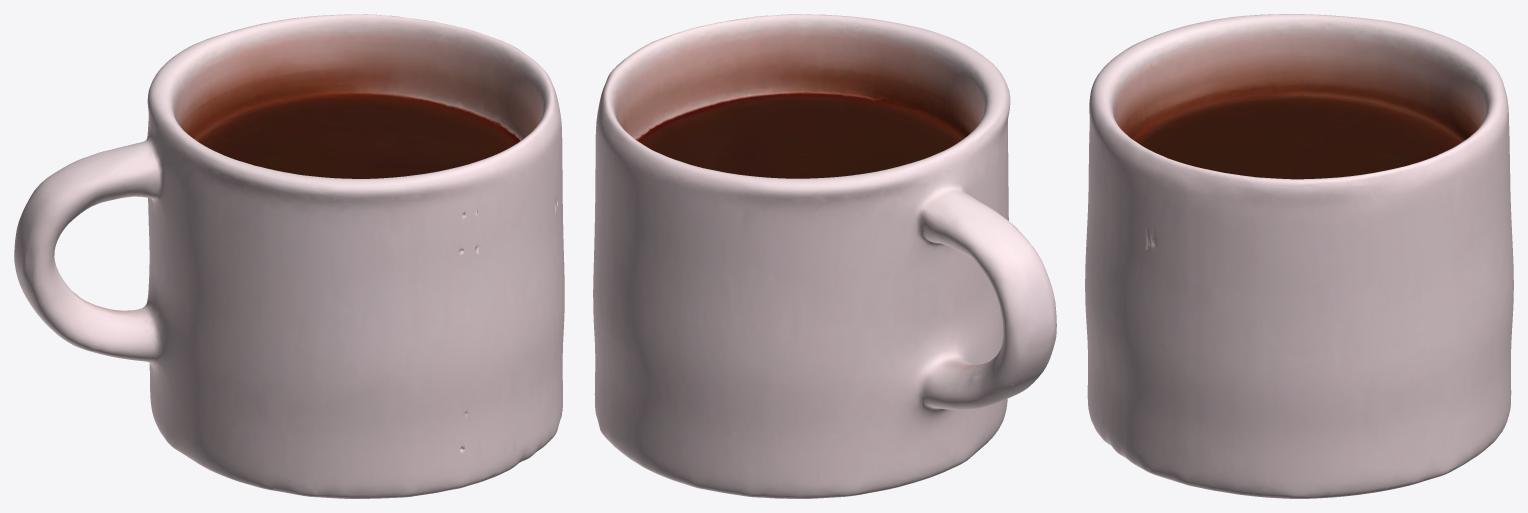
File: coffee.glb
3 views of the same model, side by side, from view 1: azimuth 30°, elevation 25°; view 2: azimuth 150°, elevation 25°; view 3: azimuth 270°, elevation 25° (orthographic).
Parts seen in each view (by area): view 1: tripo_node_088716b0-4217-4668-b5e4-7588745a42b0; view 2: tripo_node_088716b0-4217-4668-b5e4-7588745a42b0; view 3: tripo_node_088716b0-4217-4668-b5e4-7588745a42b0.
Part boxes in pixels (left/top/right/bottom): tripo_node_088716b0-4217-4668-b5e4-7588745a42b0: left=14, top=14, right=564, bottom=498; tripo_node_088716b0-4217-4668-b5e4-7588745a42b0: left=593, top=14, right=1056, bottom=498; tripo_node_088716b0-4217-4668-b5e4-7588745a42b0: left=1085, top=14, right=1513, bottom=498.
Size of the model in its own units: 0.9797 by 0.6306 by 0.7677.
Materials: 1 (1 with a texture image).
